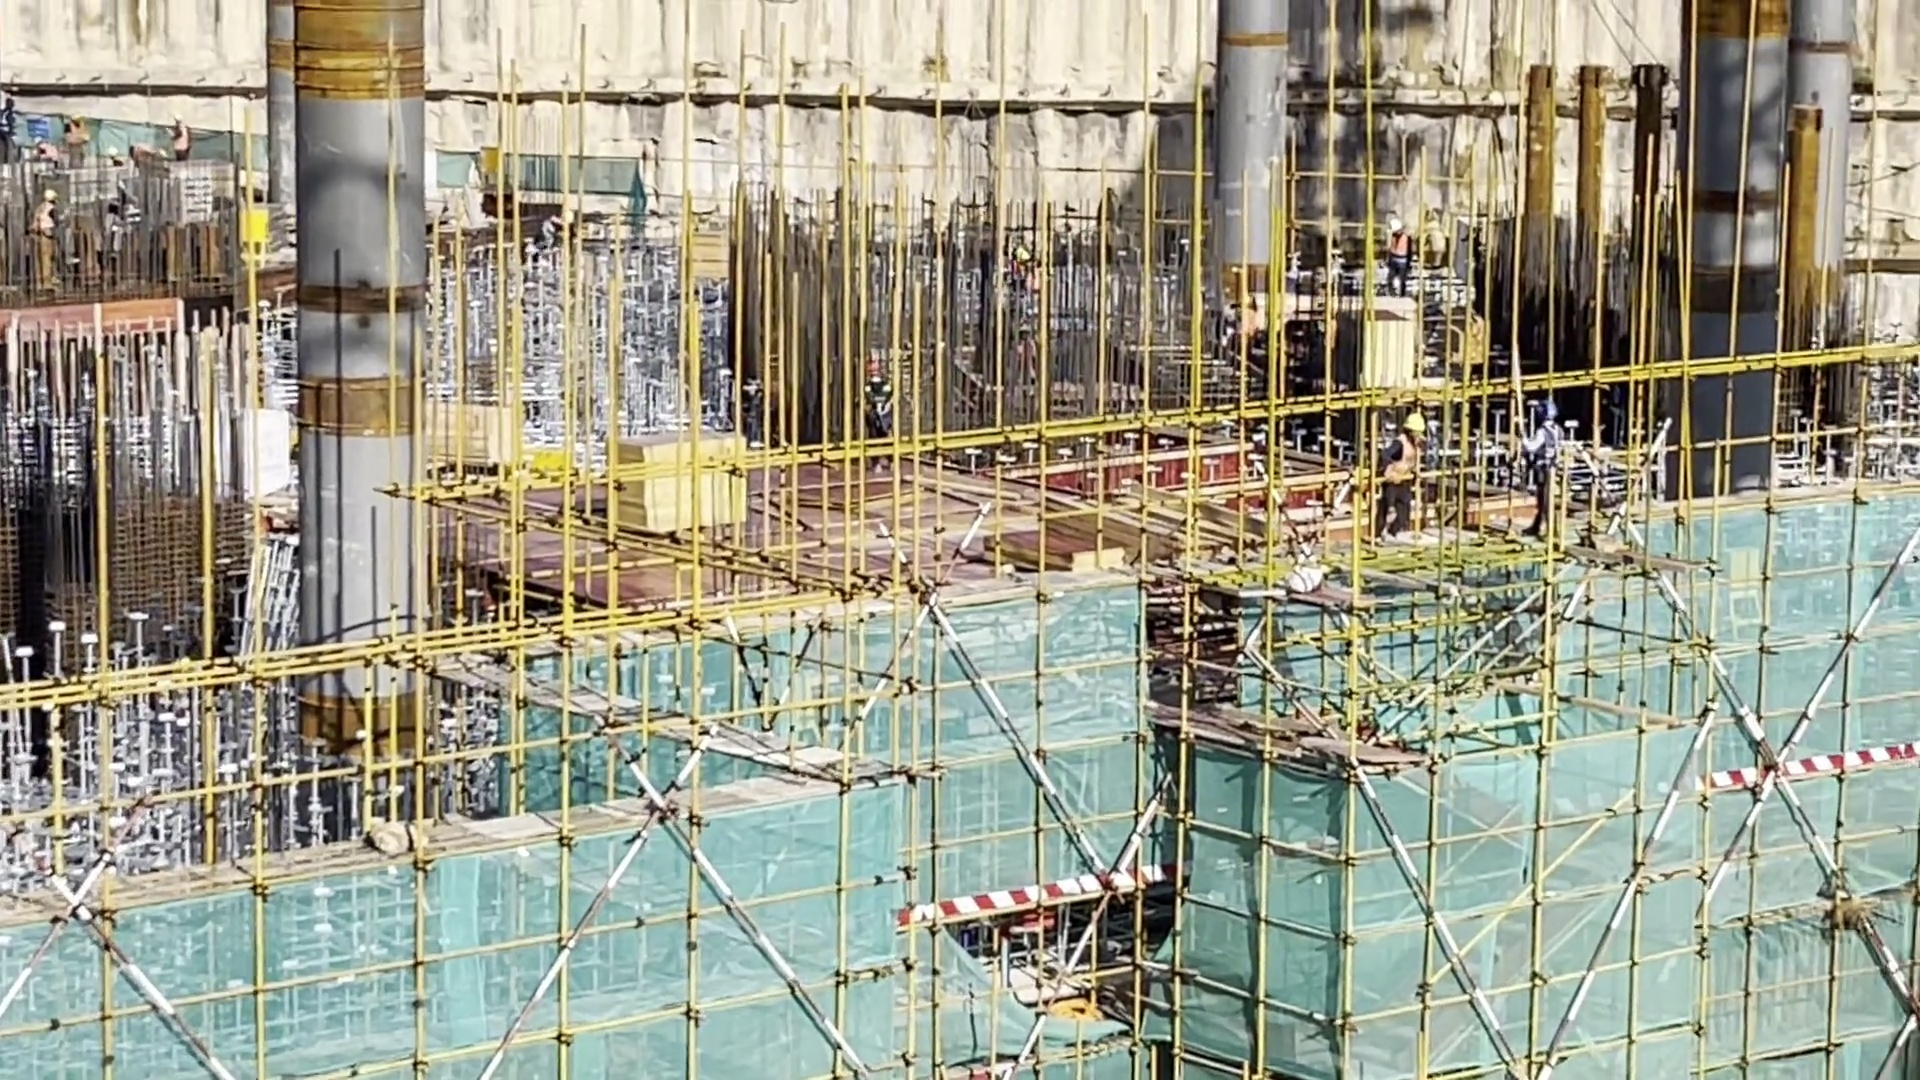helmet: (1534, 398, 1559, 418), (1411, 414, 1429, 440), (46, 191, 63, 202), (1391, 221, 1404, 235), (1239, 308, 1252, 321), (105, 144, 120, 153), (1019, 247, 1031, 257), (720, 370, 735, 379), (72, 113, 85, 123), (138, 146, 151, 154), (871, 366, 885, 375), (1429, 223, 1444, 229), (39, 138, 48, 150), (171, 116, 180, 127)
person: (714, 364, 796, 458), (862, 357, 926, 476), (1524, 401, 1579, 515), (99, 195, 148, 303), (35, 183, 84, 288), (1389, 406, 1417, 536), (1221, 278, 1251, 369), (170, 110, 210, 178), (1386, 215, 1416, 300), (93, 138, 159, 171), (63, 105, 93, 162), (538, 210, 573, 254), (1012, 240, 1041, 292), (1, 96, 24, 157), (1420, 219, 1451, 259), (42, 138, 65, 169)
vest: (863, 384, 889, 421), (734, 383, 769, 409), (39, 199, 60, 233), (1226, 306, 1250, 333), (176, 118, 193, 155), (546, 216, 575, 238), (128, 202, 144, 235), (139, 145, 160, 168), (67, 122, 85, 144), (1014, 248, 1026, 276), (111, 156, 131, 168), (49, 149, 59, 163)
